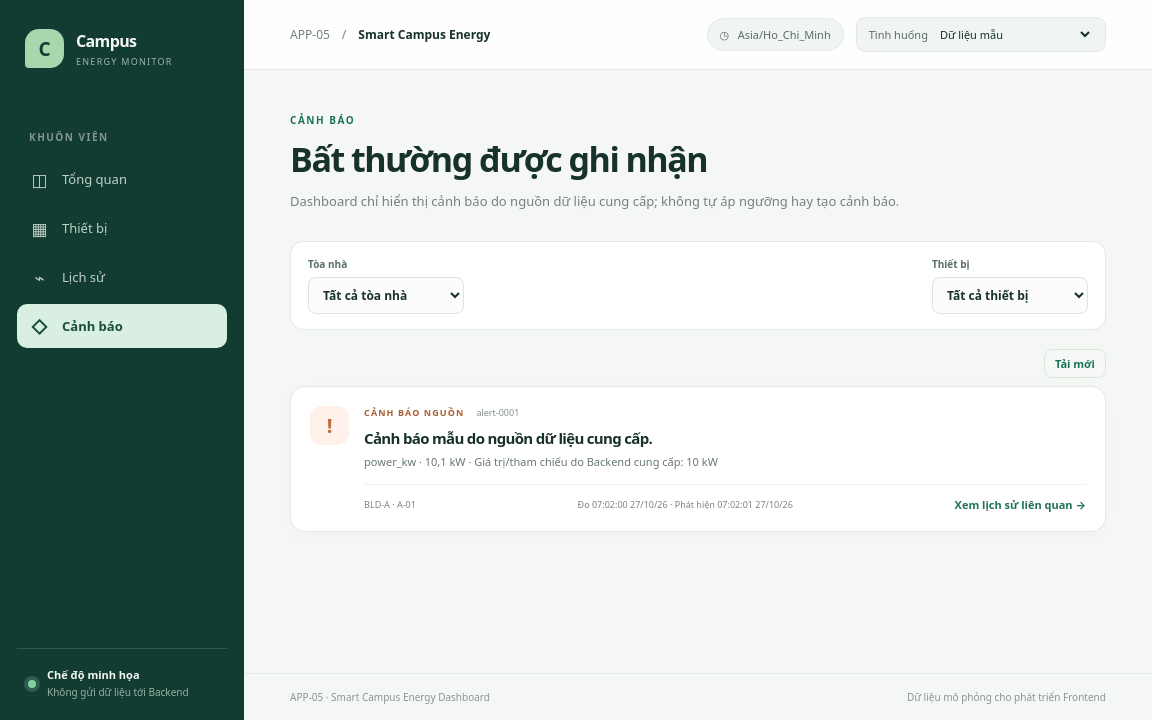
Test: Dashboard mock-first UI › keeps a prior response visible with an update error after refresh fails
Check: the element with test id "alert-alert-0001" is shown, box [290, 386, 1106, 532]
Click the button "Tải mới" at (1075, 363), box [1044, 349, 1106, 378]
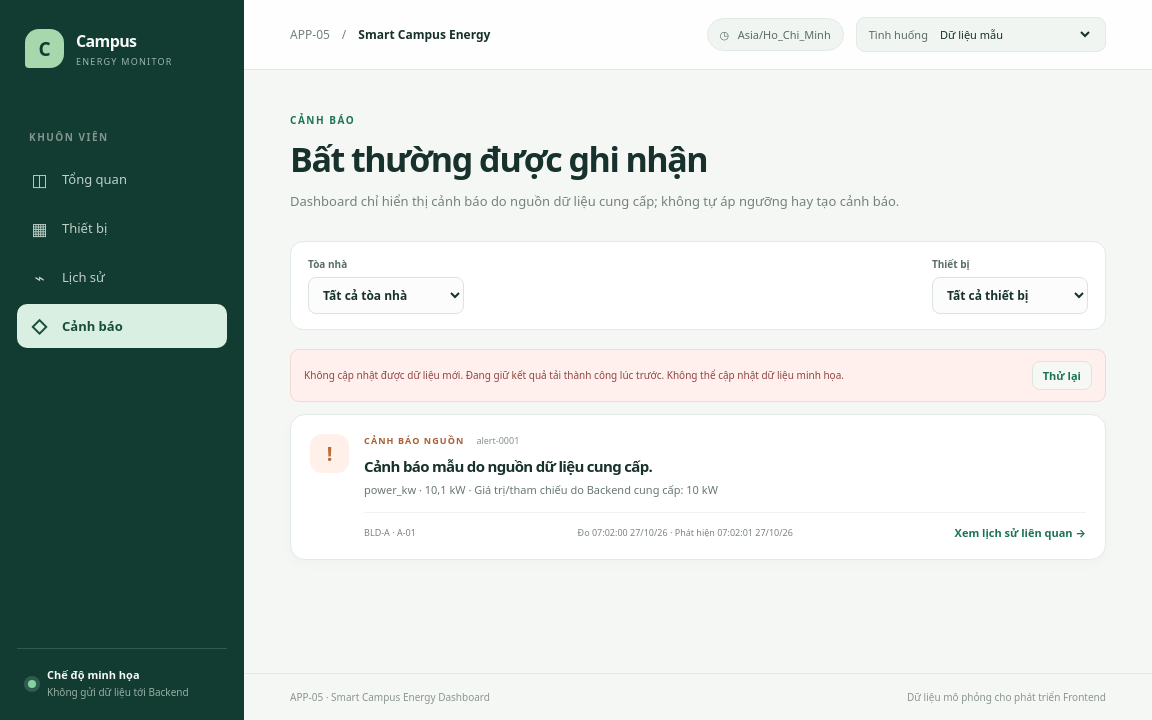
Check: the element with test id "alert-alert-0001" is shown, box [290, 414, 1106, 560]
Check: the text "Không cập nhật được dữ liệu mới" is shown, box [304, 368, 667, 382]
